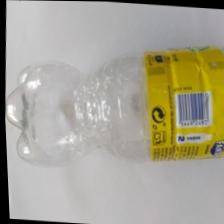plastic: (6, 28, 223, 223)
